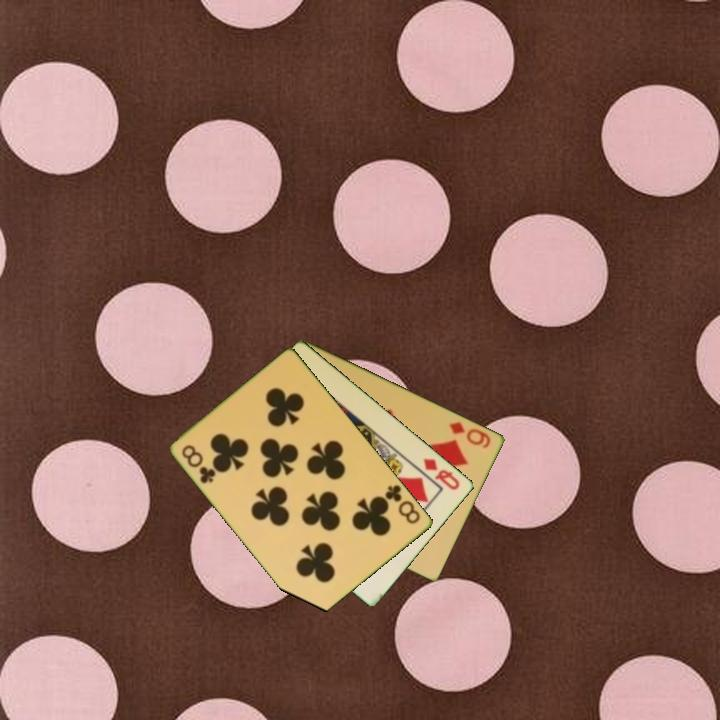6d: (446, 418, 494, 451)
8c: (380, 481, 423, 527), (178, 441, 219, 486)
Qd: (420, 454, 463, 493)
